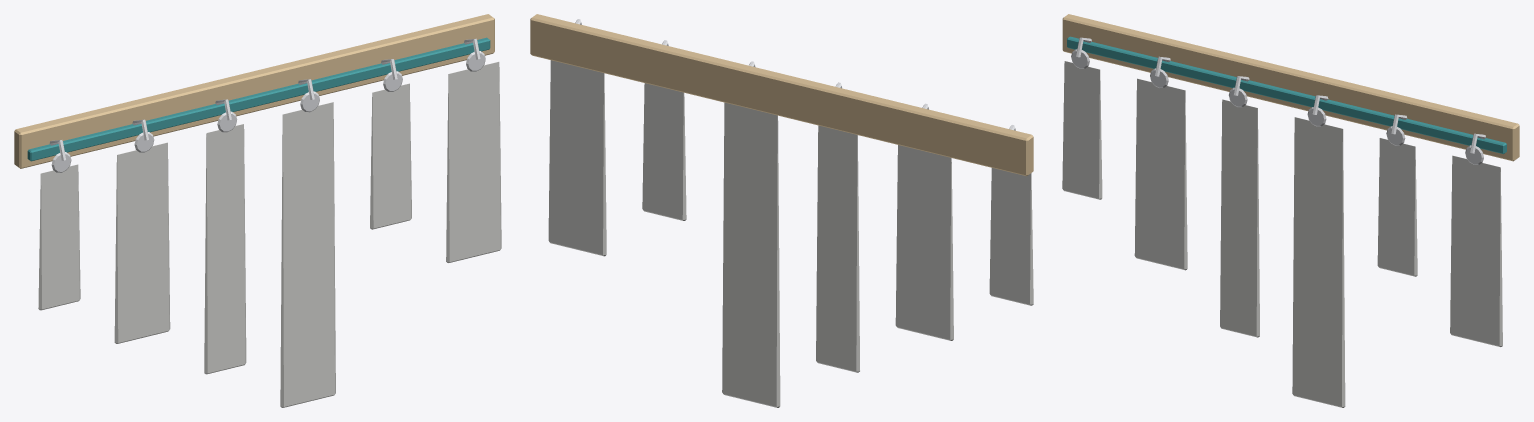
Rendered from dry-cleaners-and-alterations-shop-pattern-hook-rail-4879bf82__34975.glb.
3 views of the same model, side by side, from view 1: azimuth 30°, elevation 25°; view 2: azimuth 150°, elevation 25°; view 3: azimuth 330°, elevation 25° (orthographic). The views are drawn at different scales.
Visible parts, largest first — view 1: pattern-hook-rail; view 2: pattern-hook-rail; view 3: pattern-hook-rail.
Part boxes in pixels (bbox=[...]): pattern-hook-rail: bbox=[14, 14, 501, 407]; pattern-hook-rail: bbox=[530, 14, 1033, 407]; pattern-hook-rail: bbox=[1062, 14, 1519, 407].
Size of the model in its own units: 1.24 by 0.82 by 0.0948.
